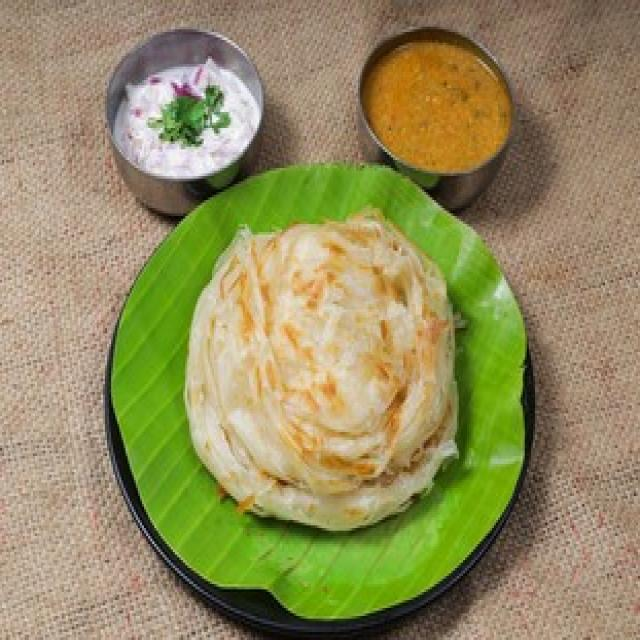CURD: (104, 58, 262, 180)
KURMA: (368, 45, 510, 171)
PAROTTA: (189, 210, 457, 535)
